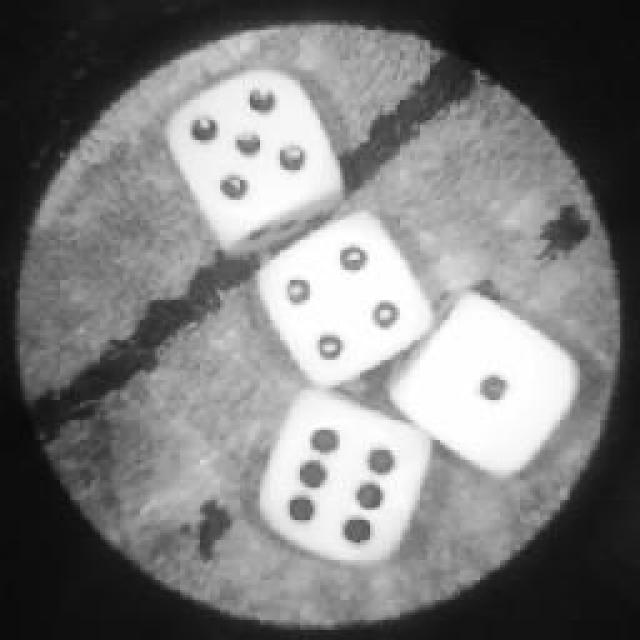dice_1: (392, 295, 578, 473)
dice_4: (258, 218, 428, 388)
dice_5: (178, 72, 338, 238)
dice_6: (260, 392, 422, 562)
